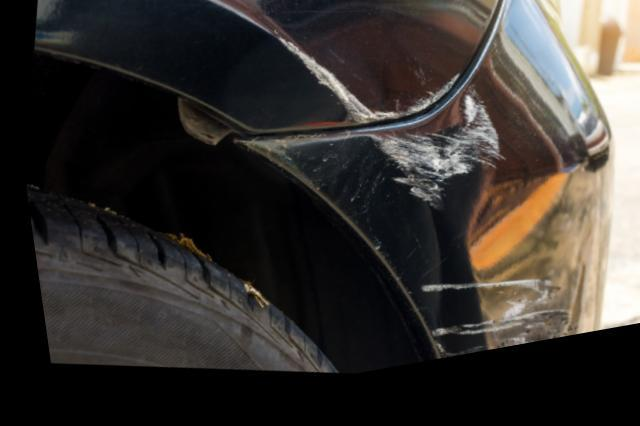scratch: (274, 35, 459, 136), (366, 106, 504, 221), (399, 291, 568, 373)
